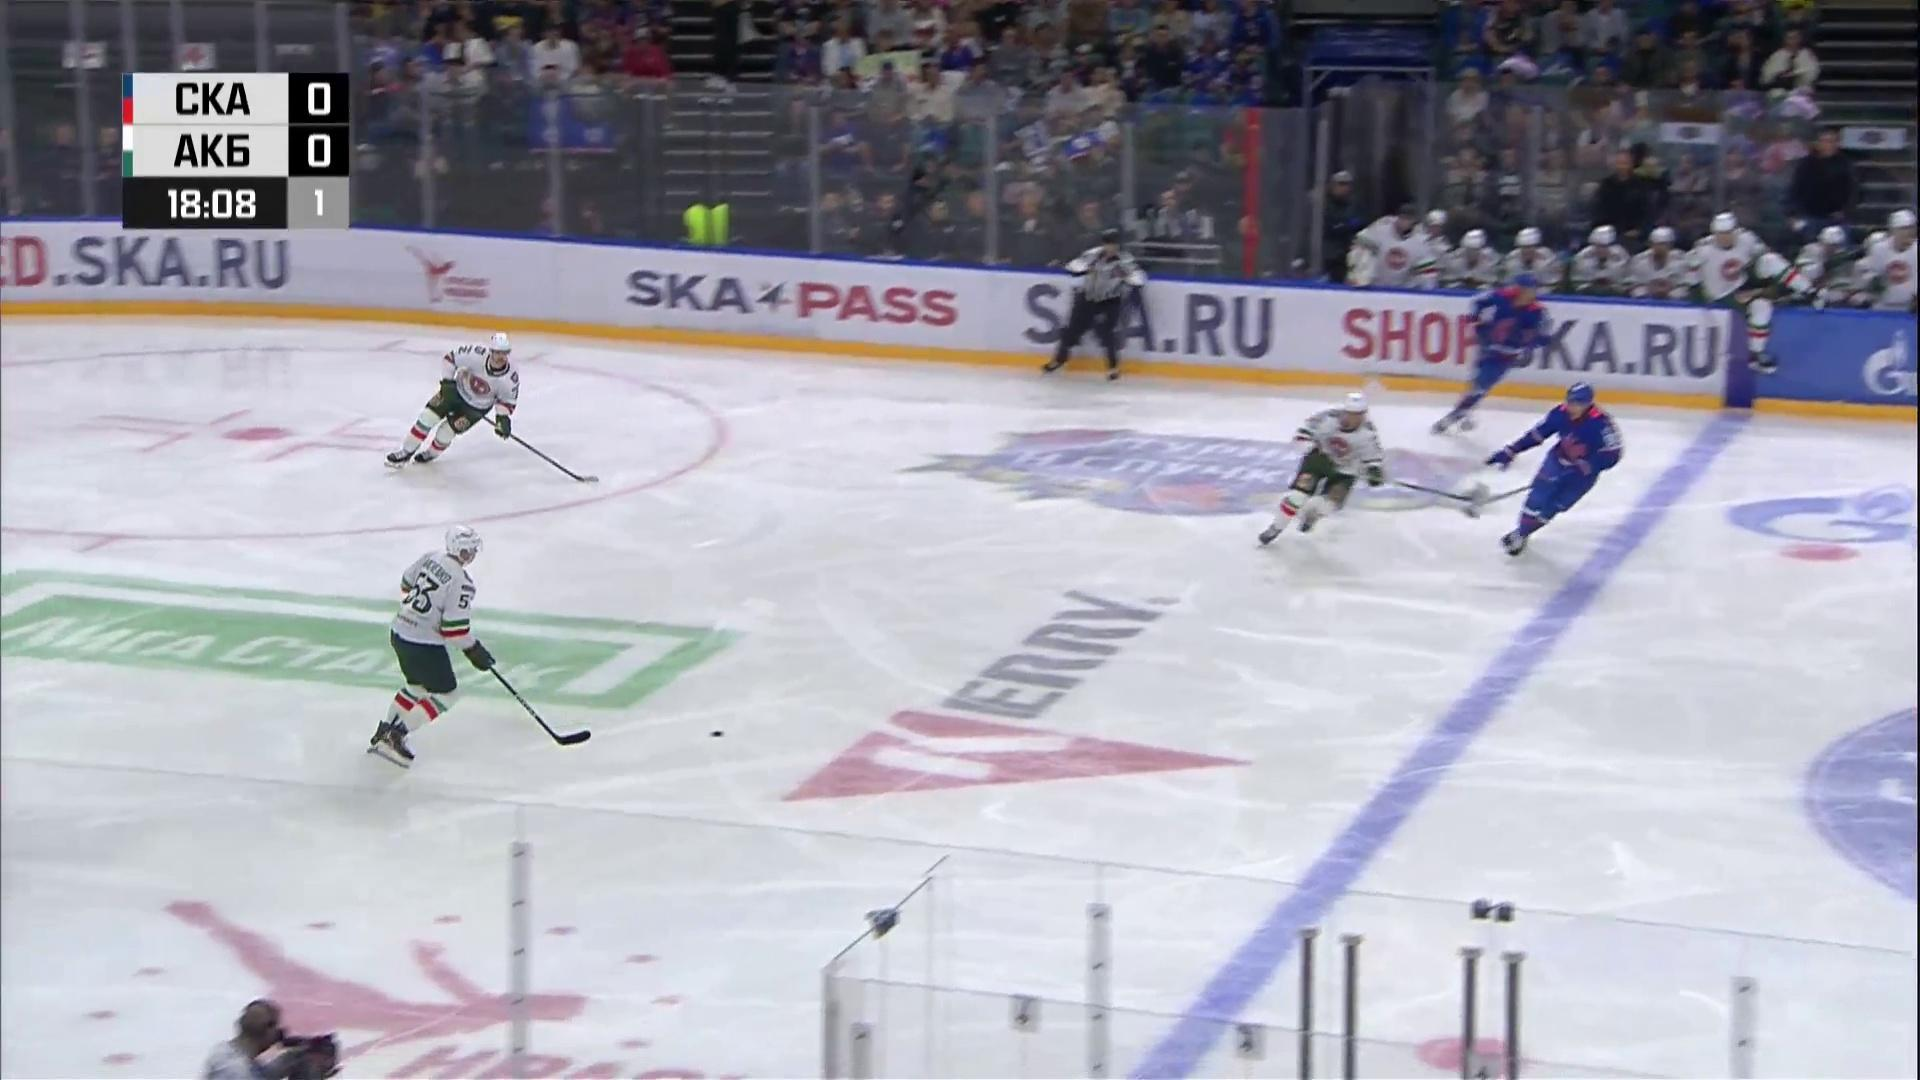ball: (708, 731, 724, 738)
